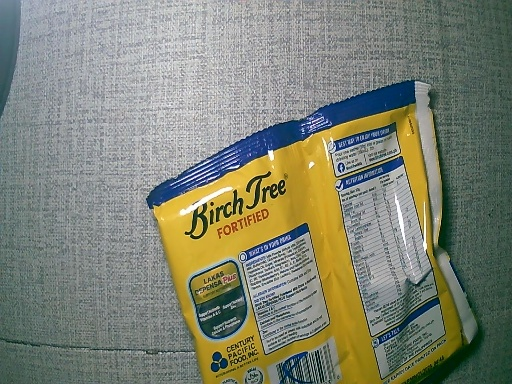plastic: (156, 79, 484, 384)
